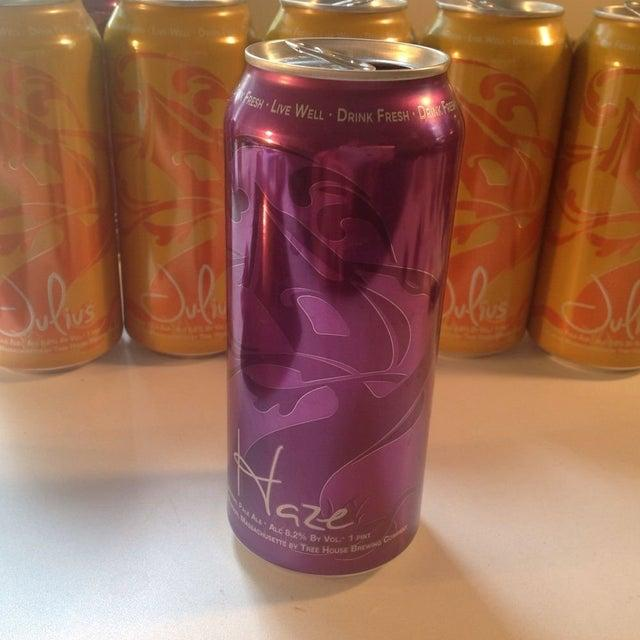non-organic waste: (223, 31, 474, 576)
